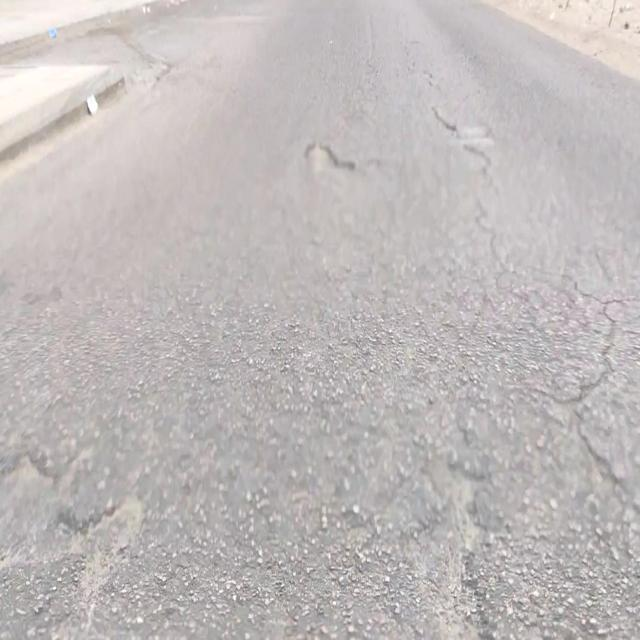Potholes: (302, 140, 355, 174)
